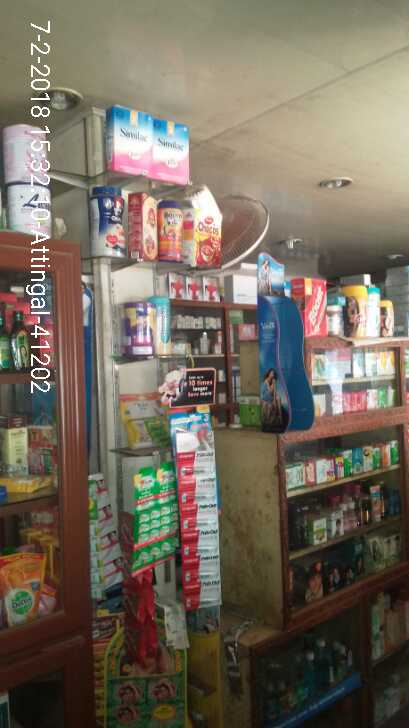reject: (188, 280, 278, 379)
